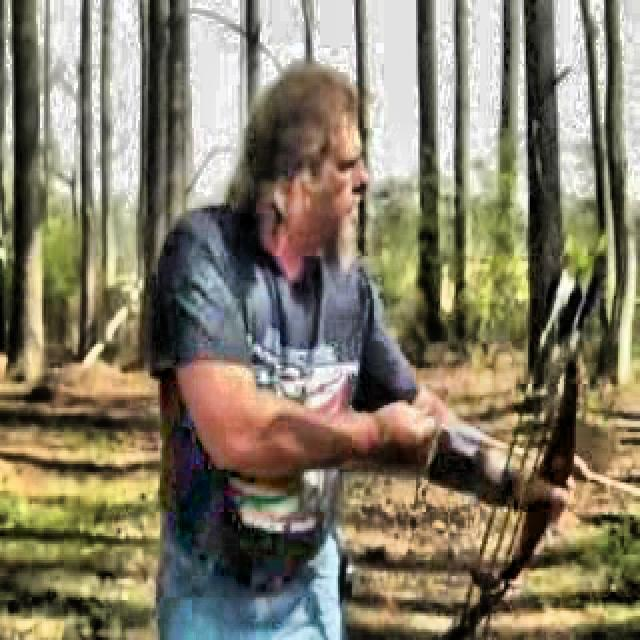I: (151, 70, 614, 572)
